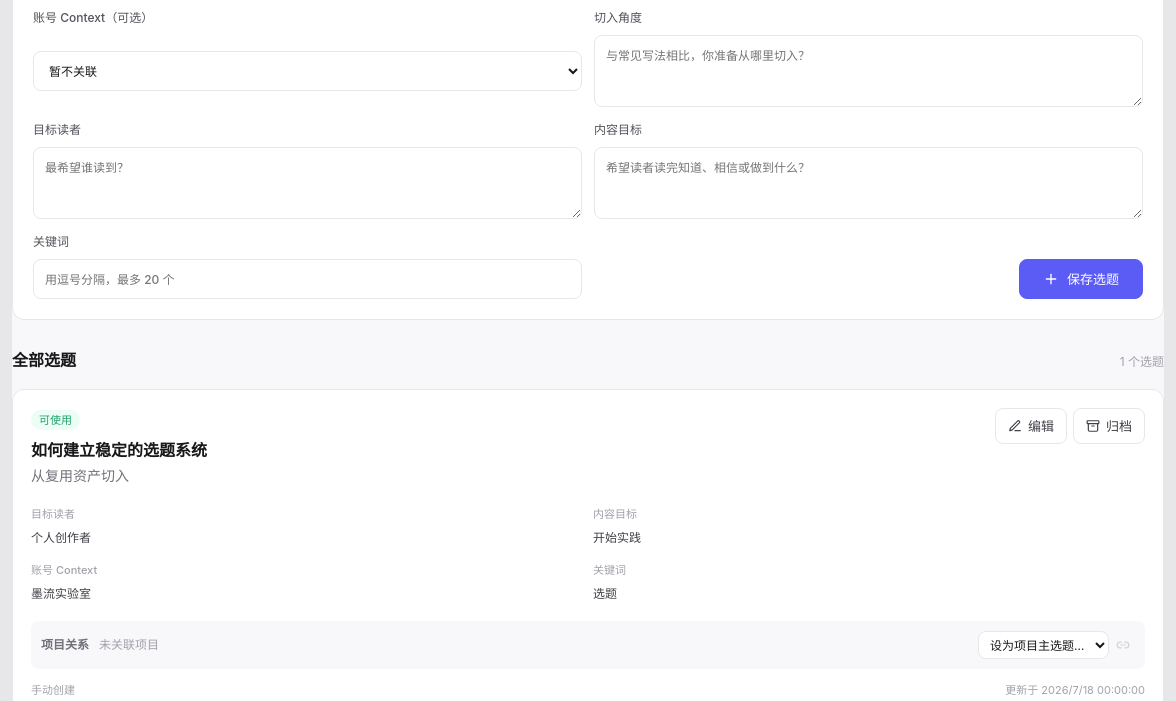
Test: TopicWorkspace › edits a manual topic in place
(page scrolled)
Click the button "编辑" at (1031, 426), box top-left (995, 408), bottom-right (1067, 444)
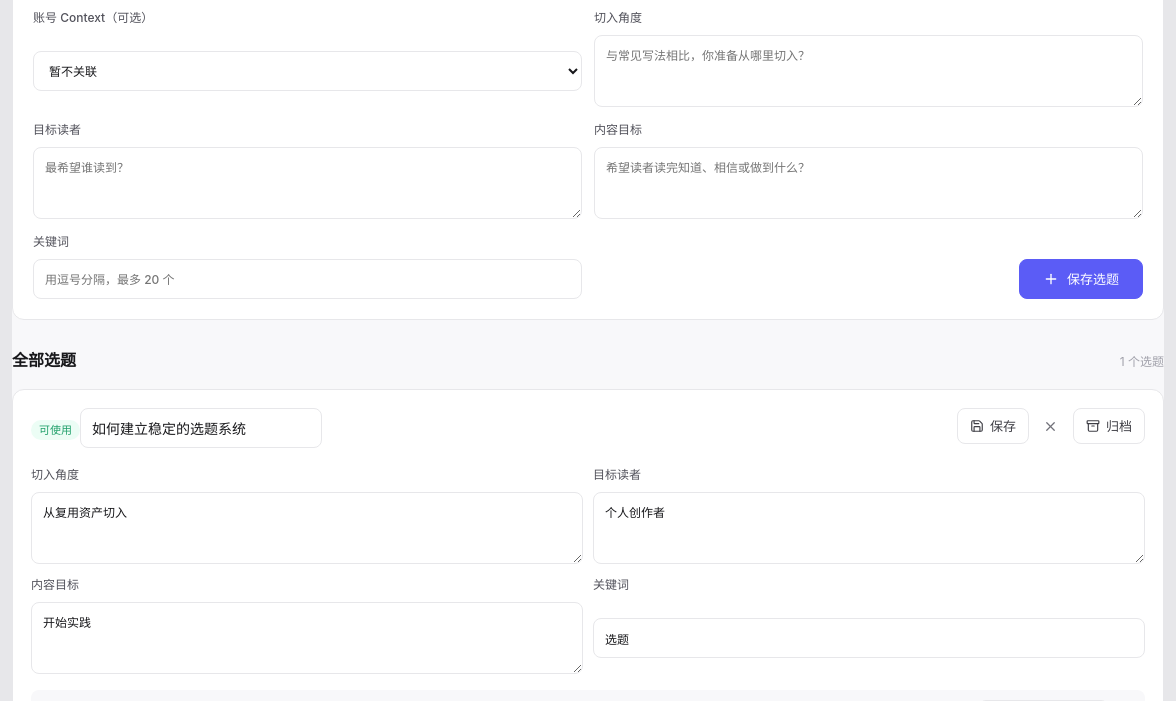
Replace the text in the field named "编辑选题标题" with "选题系统的三个关键动作" at (201, 428), box top-left (80, 408), bottom-right (322, 448)
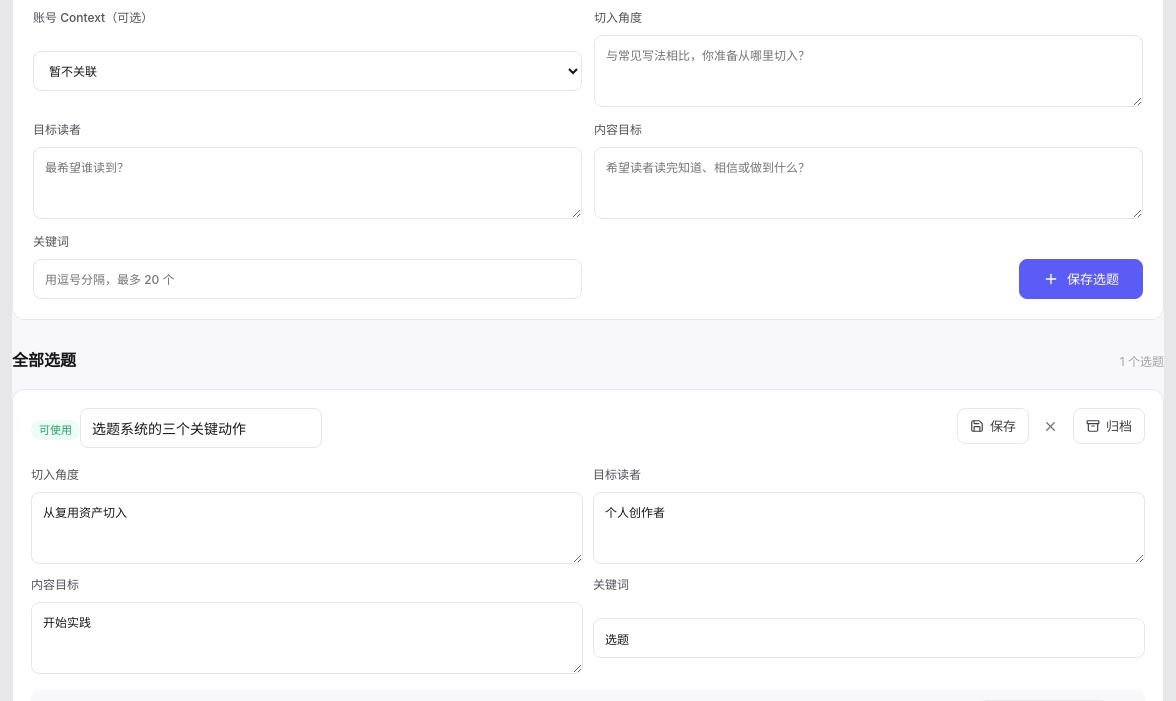
Click the button "保存" at (993, 426), box top-left (957, 408), bottom-right (1029, 444)
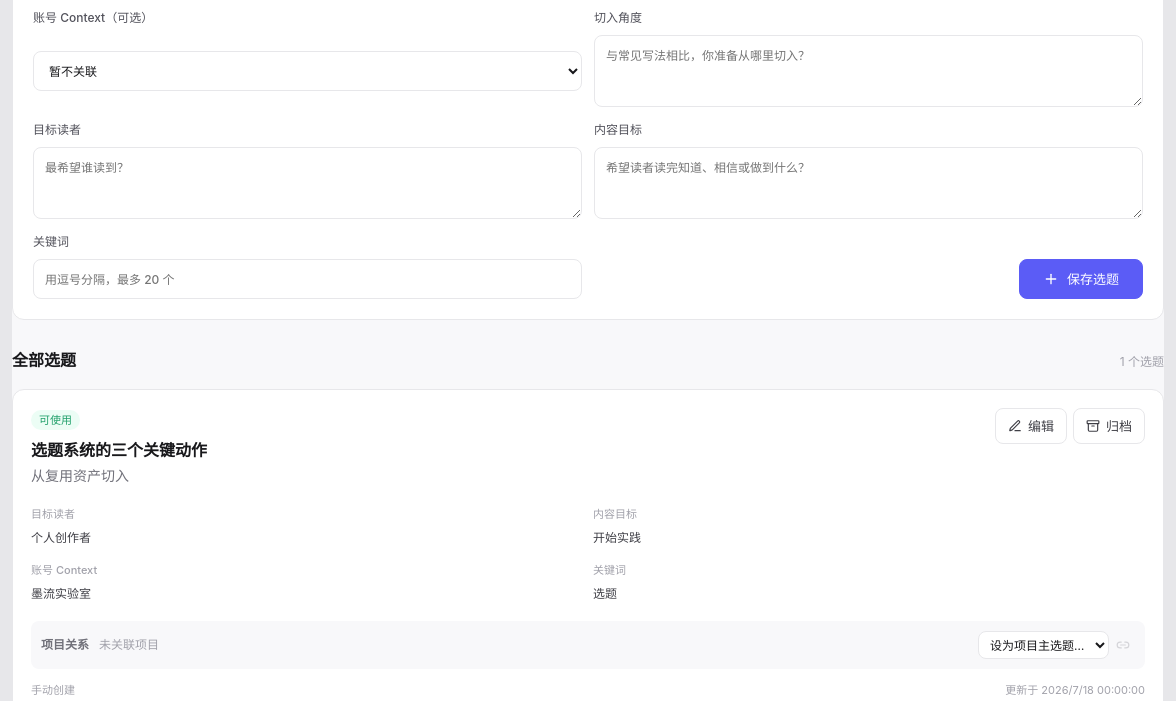
Result: the heading "选题系统的三个关键动作" is shown at top-left (31, 440), bottom-right (207, 460)
